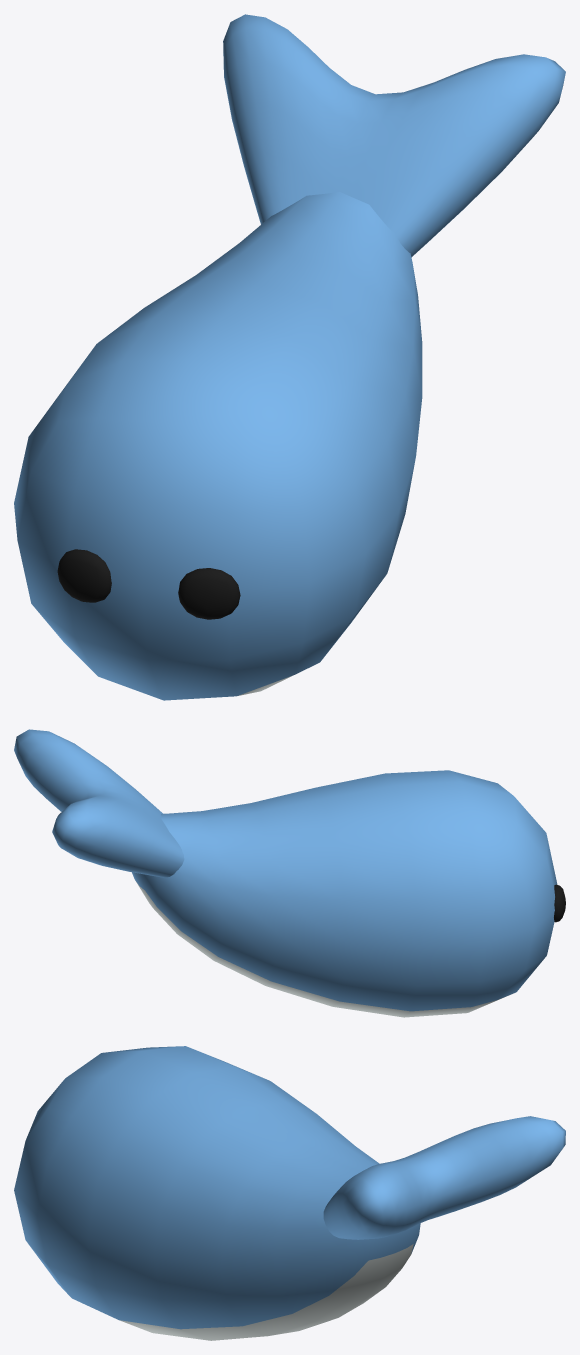
File: WhaleModel.glb
3 renders of one model, top to bottom at view 1: azimuth 30°, elevation 25°; view 2: azimuth 150°, elevation 25°; view 3: azimuth 270°, elevation 25°, orthographic. The views are drawn at different scales.
Visible parts, largest first — view 1: baleia; view 2: baleia; view 3: baleia.
Part boxes in pixels (x1,y1,x2,y2): baleia: (14, 14, 565, 700); baleia: (14, 729, 565, 1017); baleia: (14, 1046, 565, 1340).
Size of the model in its own units: 1.93 by 1.12 by 1.84.
